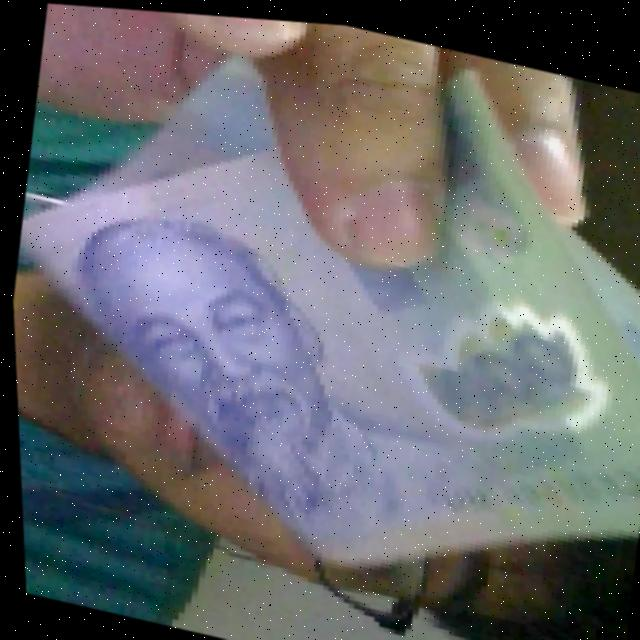500 000 VND: (0, 0, 640, 632)
